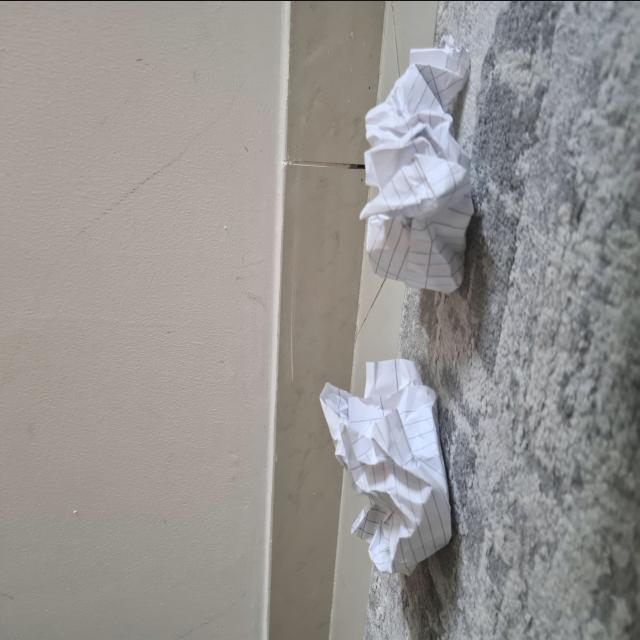Paper: (311, 348, 459, 597), (350, 54, 480, 289)
